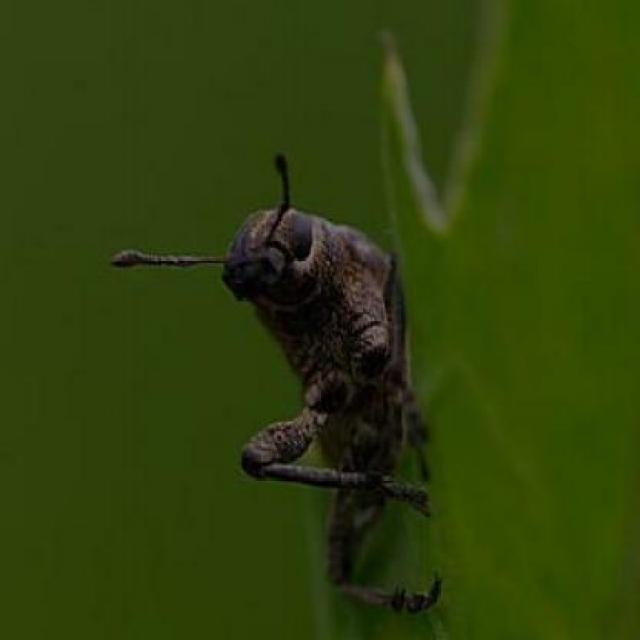rice-bug: (217, 182, 437, 608)
